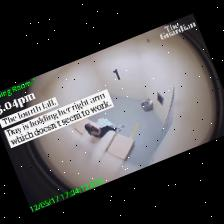person: (86, 123, 121, 137)
